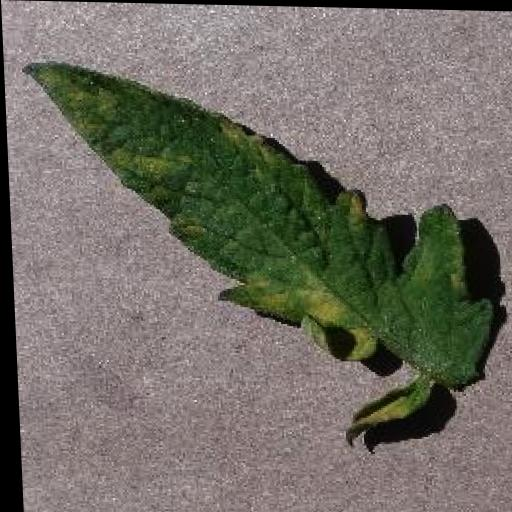Leaf Mold: (22, 61, 497, 438)
